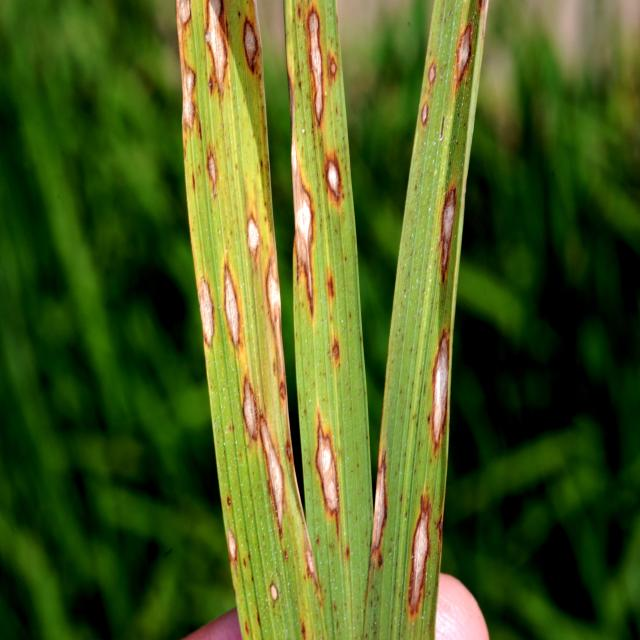Brown_Spot: (292, 541, 323, 588)
Rice_Blast: (299, 400, 356, 552), (282, 142, 323, 320), (428, 322, 467, 478), (254, 255, 298, 390), (432, 175, 475, 304), (183, 0, 216, 153), (250, 422, 295, 524), (297, 5, 329, 140), (174, 4, 199, 147), (370, 438, 390, 583), (412, 496, 433, 620), (218, 269, 249, 351), (197, 262, 224, 351), (202, 2, 226, 102), (233, 367, 264, 441), (454, 25, 478, 97), (236, 218, 271, 267), (194, 148, 223, 202), (236, 12, 259, 79), (322, 150, 348, 204), (413, 96, 434, 143), (330, 331, 348, 375), (223, 529, 240, 567), (261, 584, 287, 608), (428, 54, 440, 88)
